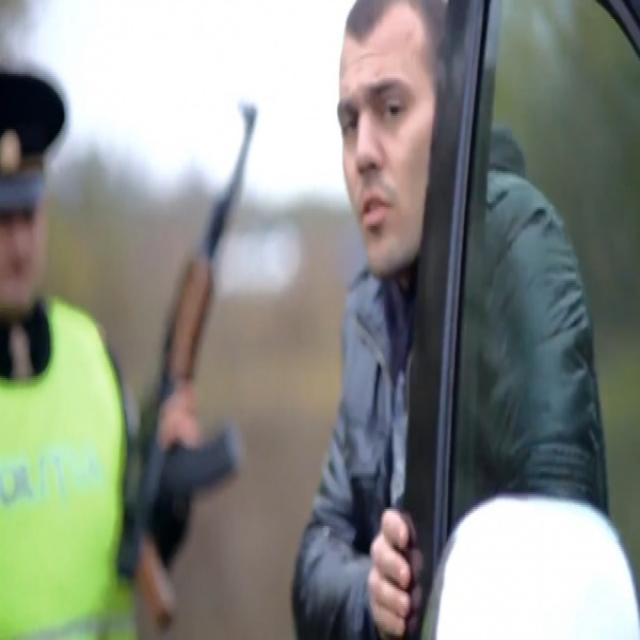rifle: (113, 91, 262, 640)
